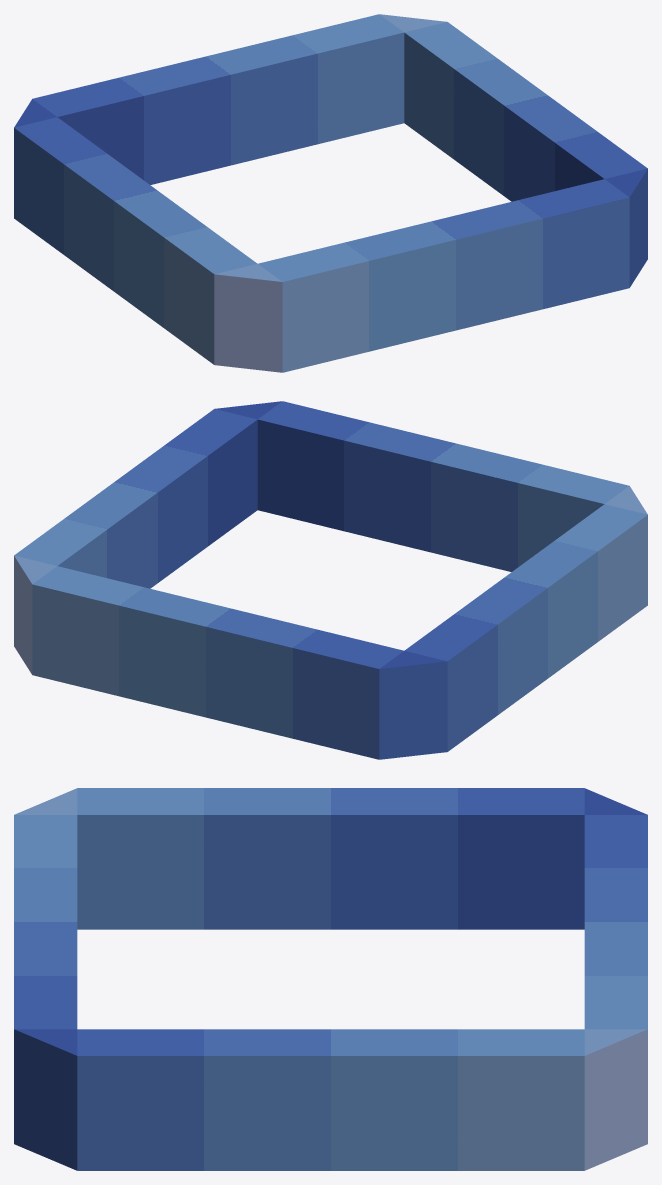
The model's file is bracelet_mundane.obj.
3 renders of one model, top to bottom at view 1: azimuth 30°, elevation 25°; view 2: azimuth 150°, elevation 25°; view 3: azimuth 270°, elevation 25°, orthographic. The views are drawn at different scales.
Visible parts, largest first — view 1: BRACELET_BASE_UNFORGED_Cube.056; view 2: BRACELET_BASE_UNFORGED_Cube.056; view 3: BRACELET_BASE_UNFORGED_Cube.056.
Boxes of the visible parts, <box> form: BRACELET_BASE_UNFORGED_Cube.056: <box>14,14,647,372</box>; BRACELET_BASE_UNFORGED_Cube.056: <box>14,401,647,759</box>; BRACELET_BASE_UNFORGED_Cube.056: <box>14,788,647,1170</box>.
Size of the model in its own units: 0.3125 by 0.0625 by 0.3125.
